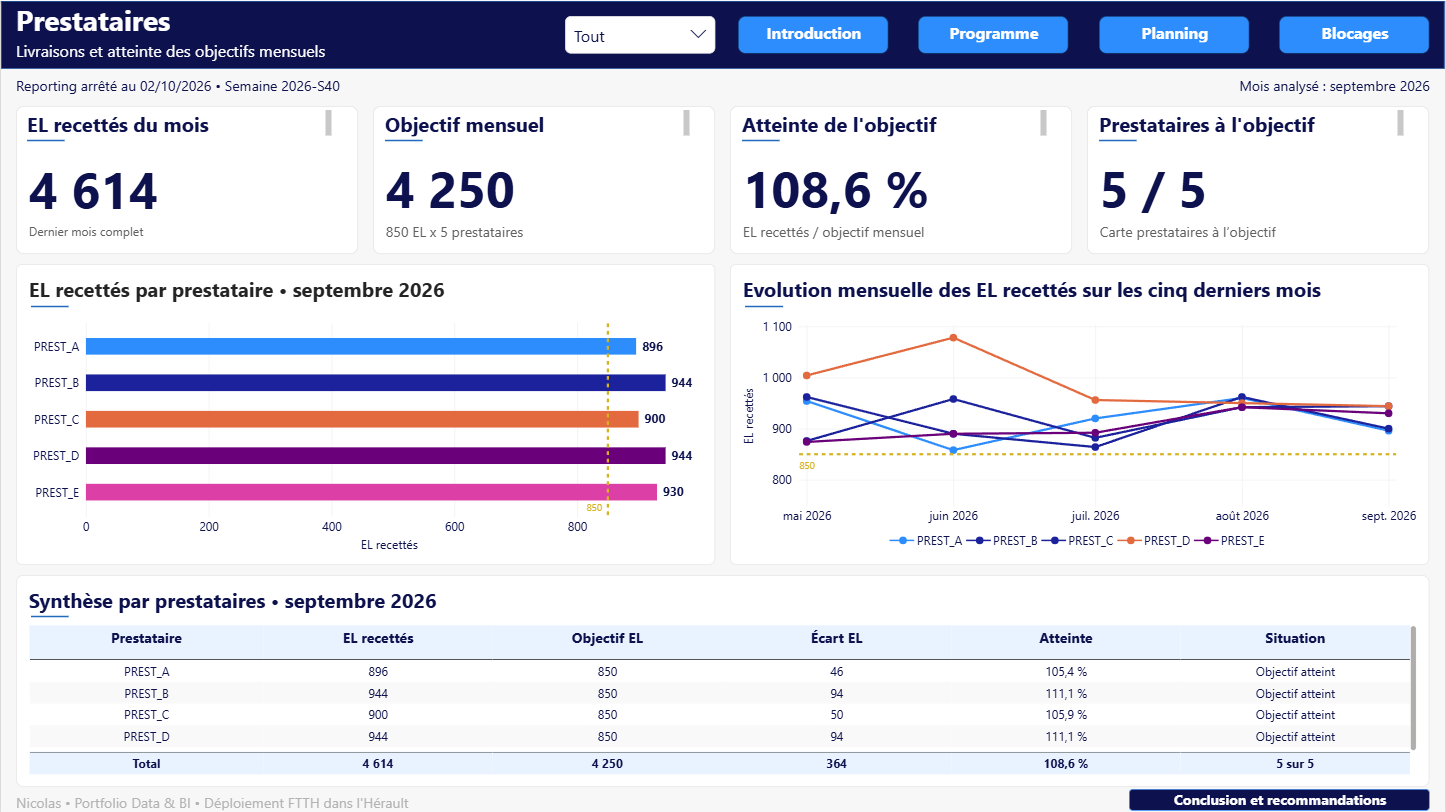

What the dashboard file says about the page in this screenshot:
{"tool":"powerbi","page":{"name":"Prestataires","canvas":[1920,1080],"ordinal":2},"visuals":[{"type":"shape","box":[0,0,1920.1,90.5],"z":0},{"type":"textbox","title":"Prestataires","box":[20,0,1880,90],"z":1000},{"type":"textbox","title":"Introduction","box":[980,20,200,50],"z":2000},{"type":"textbox","title":"Programme","box":[1220,20,200,50],"z":3000},{"type":"textbox","title":"Planning","box":[1460,20,200,50],"z":4000},{"type":"textbox","title":"Blocages","box":[1700,19.9,200,50],"z":5000},{"type":"textbox","box":[20,100,500,30],"z":6000},{"type":"cardVisual","title":"EL prévus","fields":{"Data":["Sum(v_production_mensuelle.el_recettes_mois)"]},"box":[20,140,455,197.3],"z":7000},{"type":"cardVisual","title":"EL prévus","fields":{"Data":["Sum(v_production_mensuelle.objectif_mois_complet)"]},"box":[495,140,455,197.3],"z":8000},{"type":"cardVisual","title":"EL prévus","fields":{"Data":["Mesures.Atteinte mensuelle"]},"box":[970,140,455,197.3],"z":9000},{"type":"cardVisual","title":"EL prévus","fields":{"Data":["Mesures.Carte prestataires à l’objectif"]},"box":[1445,140,455,197.3],"z":10000},{"type":"slicer","title":"Pestataires","fields":{"Values":["dim_prestataire.prestataire_id"]},"box":[750,20,200,50],"z":11000},{"type":"clusteredBarChart","title":"EL recettés par prestataire • septembre 2026","fields":{"Category":["v_production_mensuelle.prestataire_id"],"Y":["Sum(v_production_mensuelle.el_recettes_mois)"]},"box":[20,350,930,400],"z":12000},{"type":"textbox","title":"Nicolas • Portfolio Data & BI • Déploiement FTTH dans l''Hérault","box":[20,1053,850,23],"z":13000},{"type":"tableEx","title":"Synthèse par prestataires • septembre 2026","fields":{"Values":["dim_prestataire.prestataire_id","Sum(v_production_mensuelle.el_recettes_mois)","Sum(v_production_mensuelle.objectif_mois_complet)","EL du mois.Écart EL","EL du mois.Atteinte mensuelle","Mesures.Situation"]},"box":[20,763,1880,282],"z":14000},{"type":"shape","box":[40,400,50,12],"z":15000},{"type":"textbox","box":[35,145,405,35],"z":16000},{"type":"textbox","box":[1460,145,405,35],"z":17000},{"type":"textbox","box":[510.4,145,405,35],"z":18000},{"type":"textbox","box":[985,145,405,35],"z":19000},{"type":"shape","box":[35,180,50,12],"z":20000},{"type":"shape","box":[510.4,180,50,12],"z":21000},{"type":"shape","box":[985,180,50,12],"z":22000},{"type":"shape","box":[1460,180,50,12],"z":23000},{"type":"lineChart","title":"Evolution mensuelle des EL recettés sur les cinq derniers mois","fields":{"Category":["dim_mois.mois"],"Series":["dim_prestataire.prestataire_id"],"Y":["Sum(v_production_mensuelle.el_recettes_mois)"]},"box":[970,350,930,400],"z":24000},{"type":"shape","box":[990,400,50.7,12],"z":25000},{"type":"shape","box":[40,813,50,12],"z":26000},{"type":"textbox","box":[1400,100,500,30],"z":27000},{"type":"actionButton","box":[980,20,200,50],"z":28000},{"type":"actionButton","box":[1220,20,200,50],"z":29000},{"type":"actionButton","box":[1460,20,200,50],"z":30000},{"type":"actionButton","box":[1700,20,200,50],"z":31000},{"type":"textbox","title":"Conclusion et recommandations","box":[1500,1048,400,29],"z":32000},{"type":"actionButton","box":[1500.2,1048,400,29],"z":33000},{"type":"textbox","box":[675,706,255.2,30.8],"z":34000},{"type":"textbox","box":[1625,706,255,30.8],"z":35000}]}

Visuals, with their boxes in screenshot pixels (x1, y1, x2, y2), scaled from the page's 1920x1080 canvas onto the 1446x812 screenshot:
shape: box(0, 0, 1445, 68)
"Prestataires" textbox: box(15, 0, 1431, 68)
"Introduction" textbox: box(738, 15, 889, 53)
"Programme" textbox: box(919, 15, 1069, 53)
"Planning" textbox: box(1100, 15, 1250, 53)
"Blocages" textbox: box(1280, 15, 1431, 53)
textbox: box(15, 75, 392, 98)
"EL prévus" cardVisual: box(15, 105, 358, 254)
"EL prévus" cardVisual: box(373, 105, 715, 254)
"EL prévus" cardVisual: box(731, 105, 1073, 254)
"EL prévus" cardVisual: box(1088, 105, 1431, 254)
"Pestataires" slicer: box(565, 15, 715, 53)
"EL recettés par prestataire • septembre 2026" clusteredBarChart: box(15, 263, 715, 564)
"Nicolas • Portfolio Data & BI • Déploiement FTTH dans l''Hérault" textbox: box(15, 792, 655, 809)
"Synthèse par prestataires • septembre 2026" tableEx: box(15, 574, 1431, 786)
shape: box(30, 301, 68, 310)
textbox: box(26, 109, 331, 135)
textbox: box(1100, 109, 1405, 135)
textbox: box(384, 109, 689, 135)
textbox: box(742, 109, 1047, 135)
shape: box(26, 135, 64, 144)
shape: box(384, 135, 422, 144)
shape: box(742, 135, 779, 144)
shape: box(1100, 135, 1137, 144)
"Evolution mensuelle des EL recettés sur les cinq derniers mois" lineChart: box(731, 263, 1431, 564)
shape: box(746, 301, 784, 310)
shape: box(30, 611, 68, 620)
textbox: box(1054, 75, 1431, 98)
actionButton: box(738, 15, 889, 53)
actionButton: box(919, 15, 1069, 53)
actionButton: box(1100, 15, 1250, 53)
actionButton: box(1280, 15, 1431, 53)
"Conclusion et recommandations" textbox: box(1130, 788, 1431, 810)
actionButton: box(1130, 788, 1431, 810)
textbox: box(508, 531, 701, 554)
textbox: box(1224, 531, 1416, 554)
